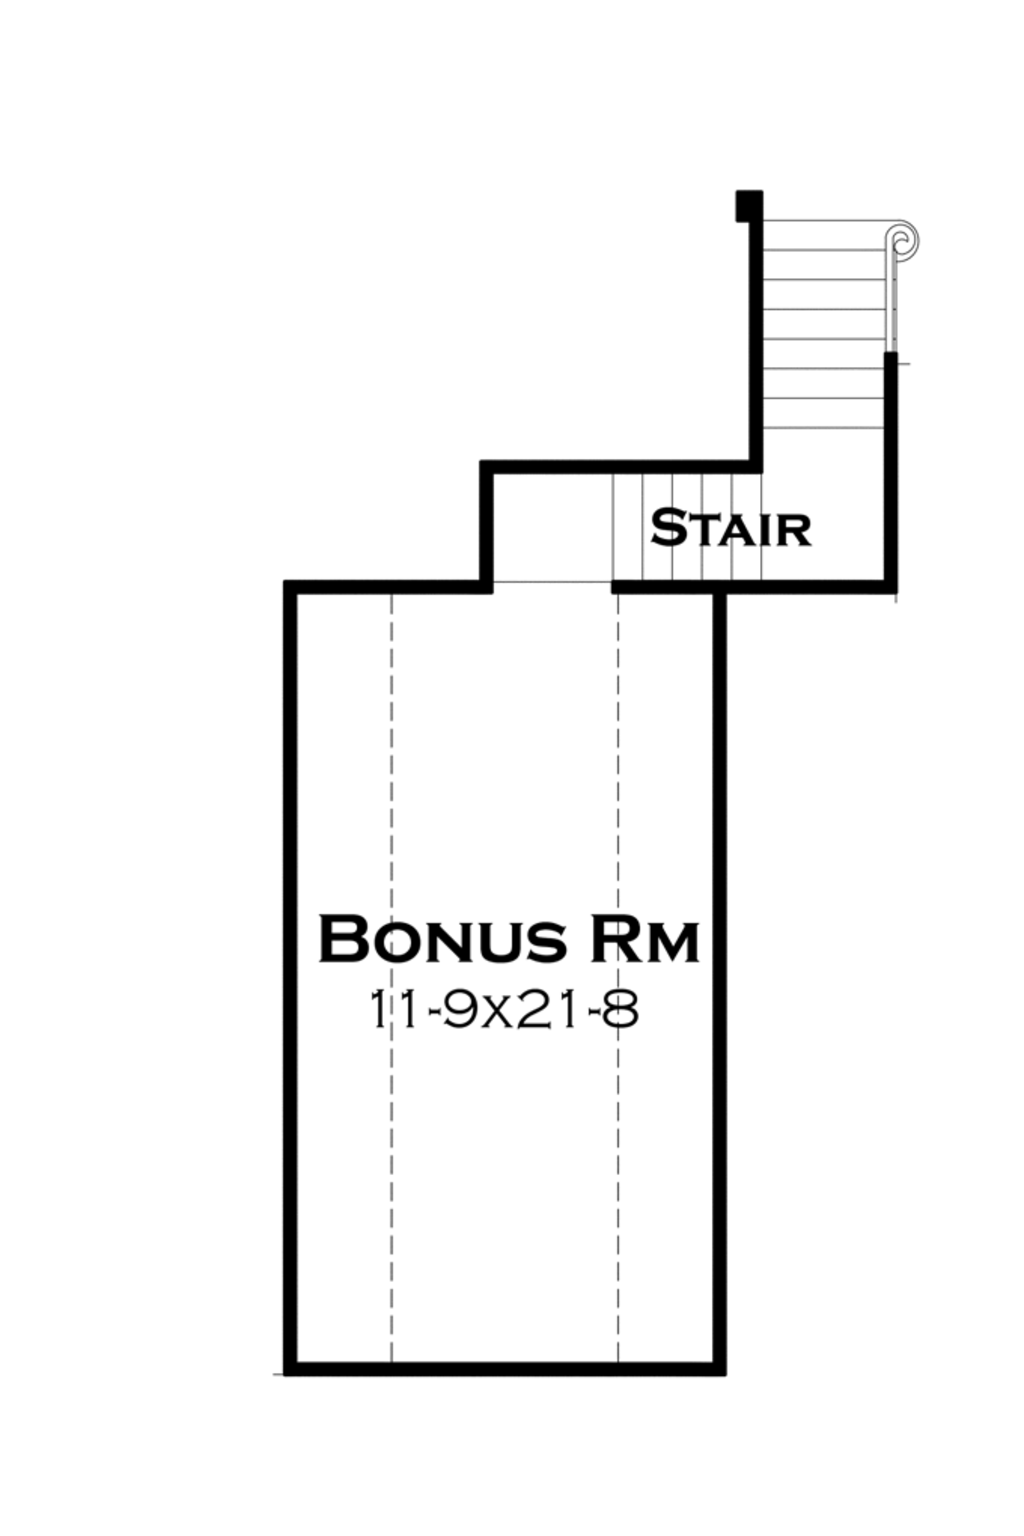stairs: (597, 182, 927, 603)
